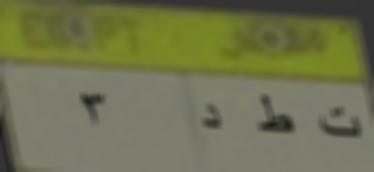3: (74, 84, 110, 135)
Taa: (252, 90, 300, 144)
daal: (196, 100, 233, 138)
taa: (320, 103, 365, 146)
